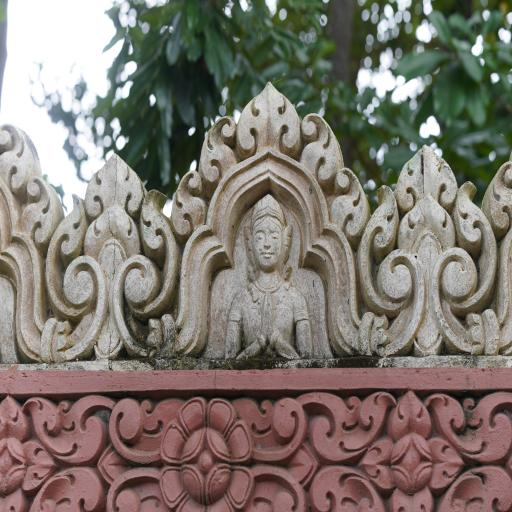hoa: (148, 398, 260, 512), (364, 396, 462, 512), (0, 398, 53, 512)
la: (360, 140, 492, 360), (48, 156, 180, 368), (24, 397, 118, 460), (269, 396, 366, 456), (232, 73, 301, 157), (296, 106, 344, 192), (16, 177, 68, 250), (0, 117, 46, 199), (461, 392, 512, 462), (304, 461, 372, 512), (438, 466, 512, 512), (31, 469, 105, 512), (194, 118, 242, 182), (329, 164, 368, 236), (172, 172, 210, 242), (483, 146, 512, 232)
than: (216, 192, 318, 374)
